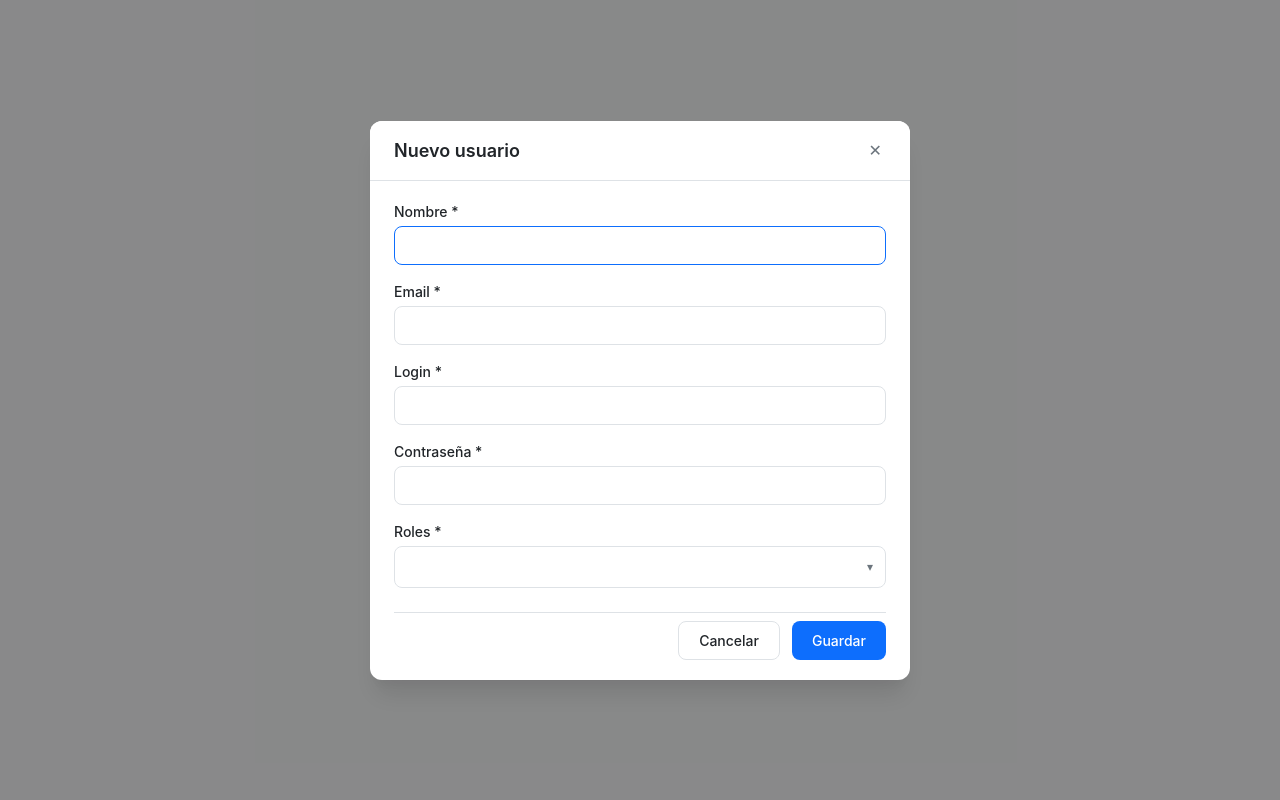
Test case: RbacUserModal › shows server error 409 LOGIN_TAKEN inline
Type "Test" into the field labelled "Nombre *" at [640, 245], box [394,226,886,264]
Type "test@test.com" into the field labelled "Email *" at [640, 325], box [394,306,886,344]
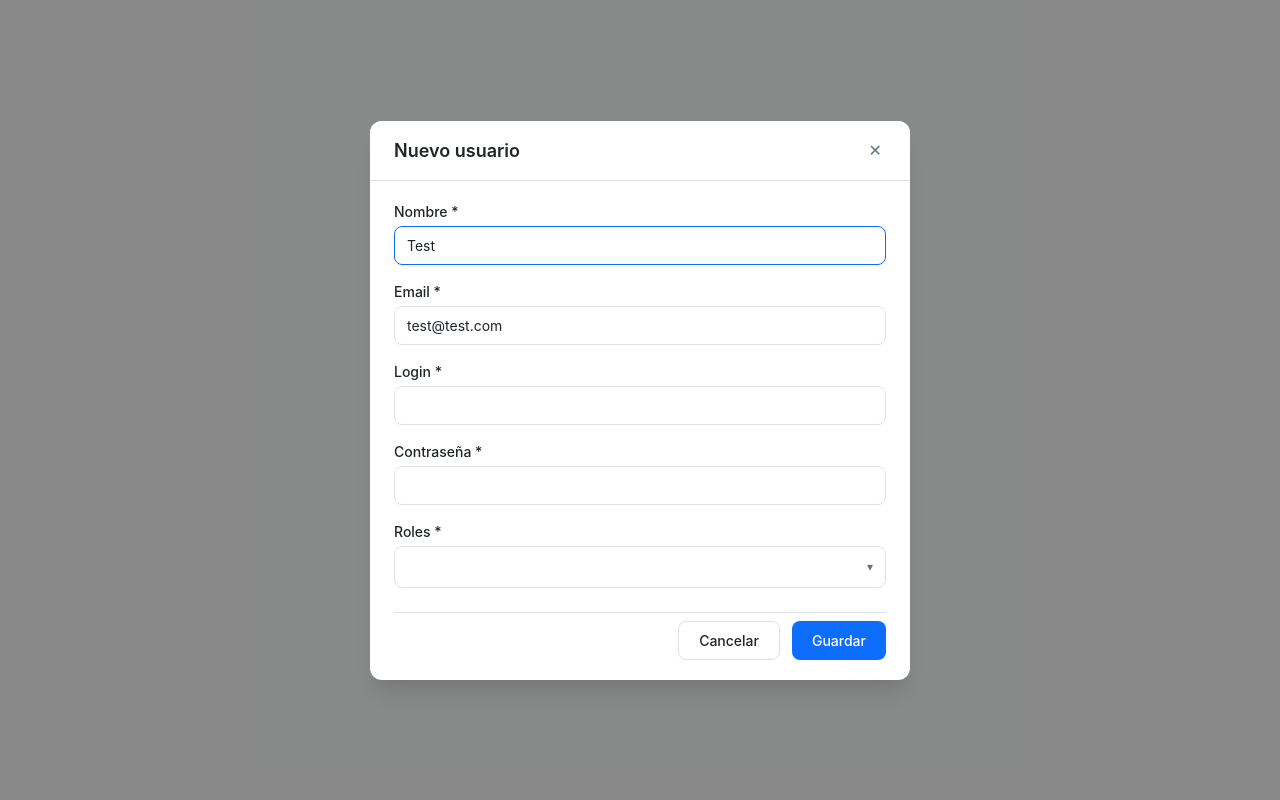
Type "taken" into the field labelled "Login *" at [640, 405], box [394,386,886,424]
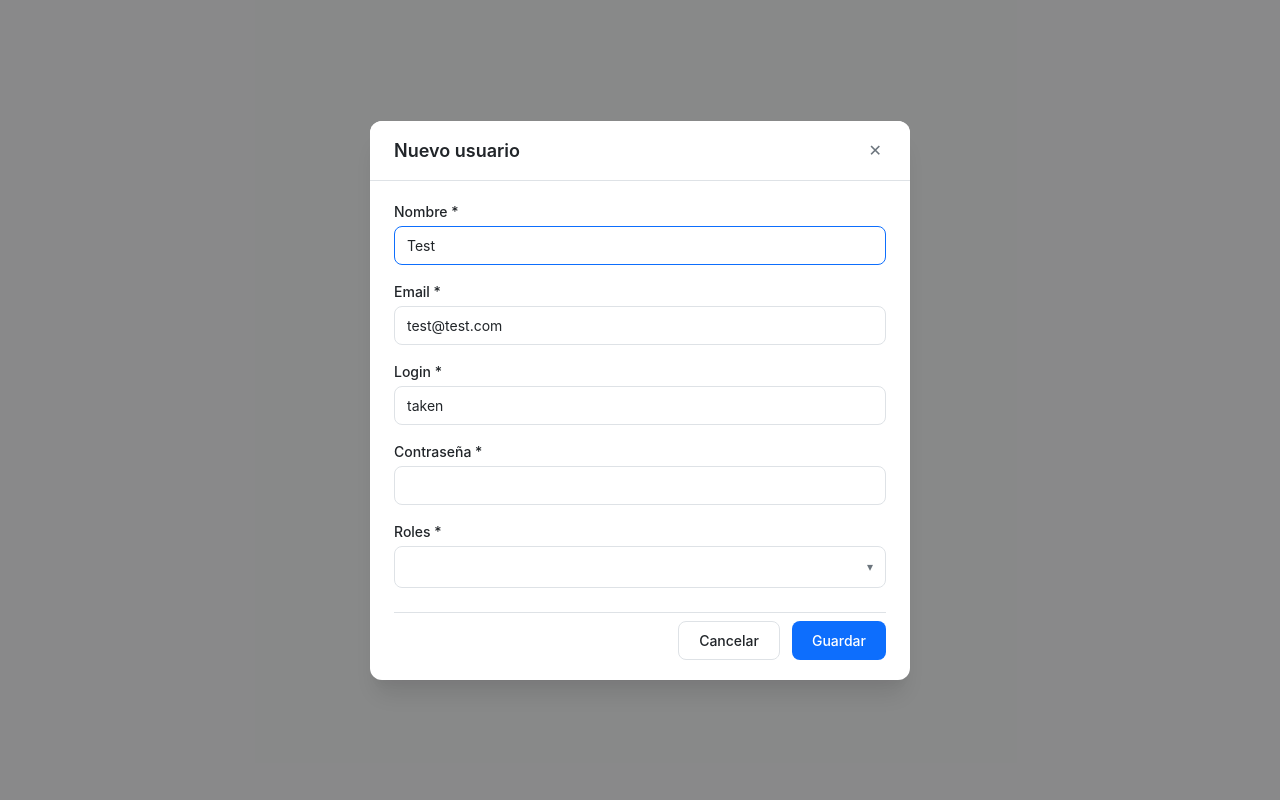
Type "password123" into the password field labelled "Contraseña *" at [640, 485], box [394,466,886,504]
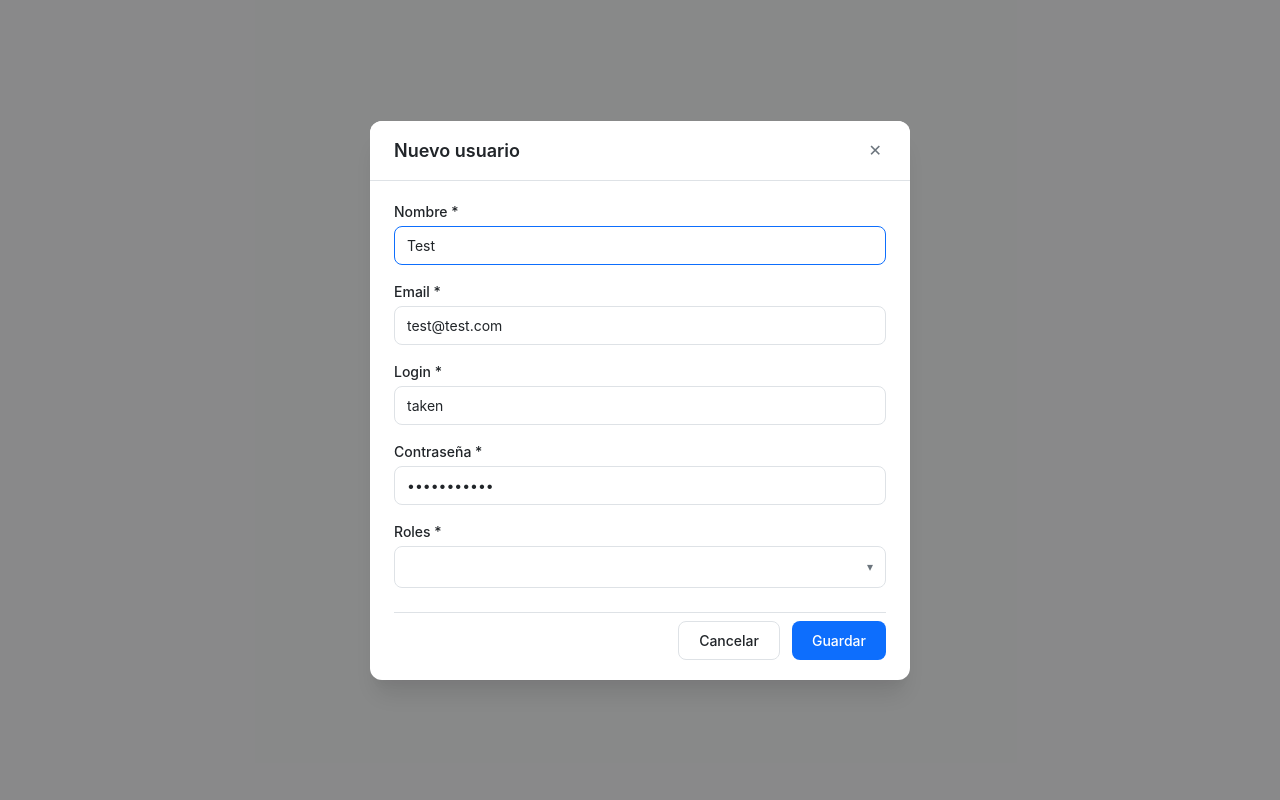
# Add a role
Click the button named "seleccionar roles" at [870, 566], box [863,558,877,576]
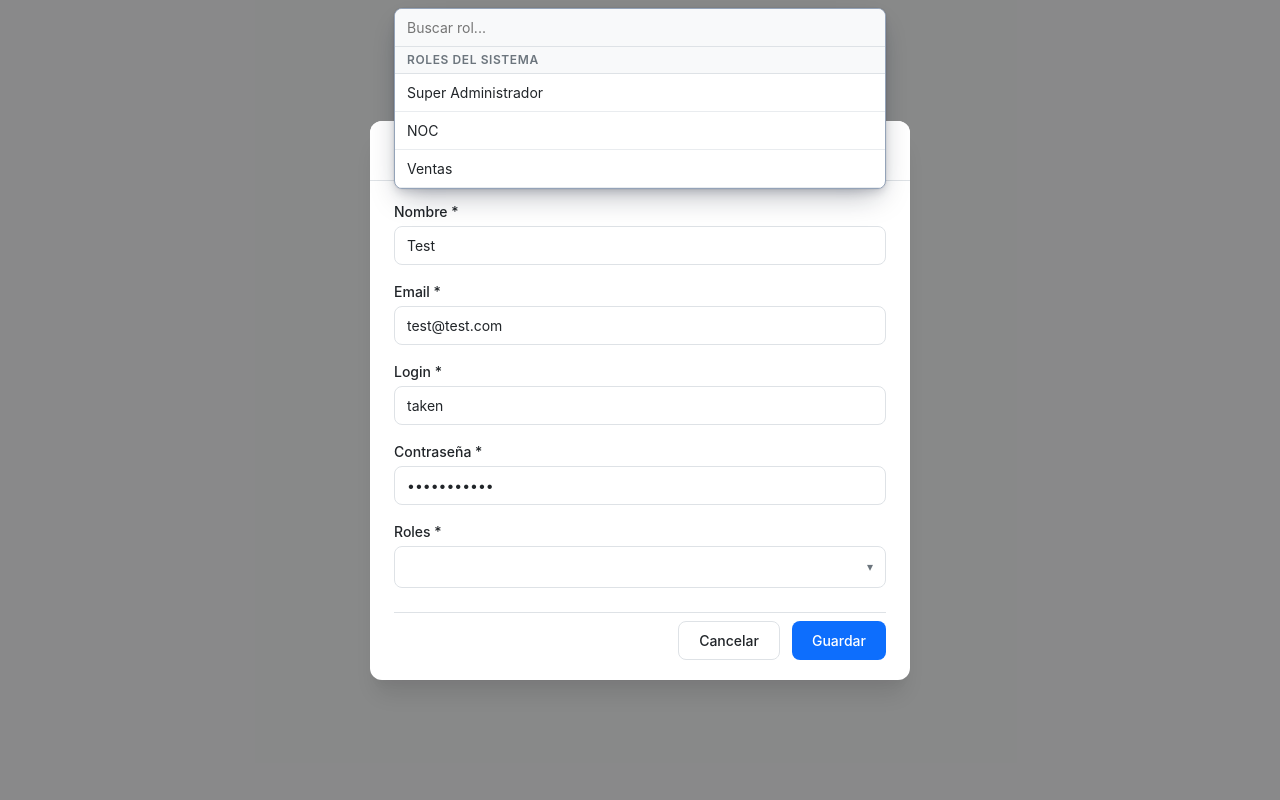
Click the option "NOC" at [423, 130], box [395,112,885,150]
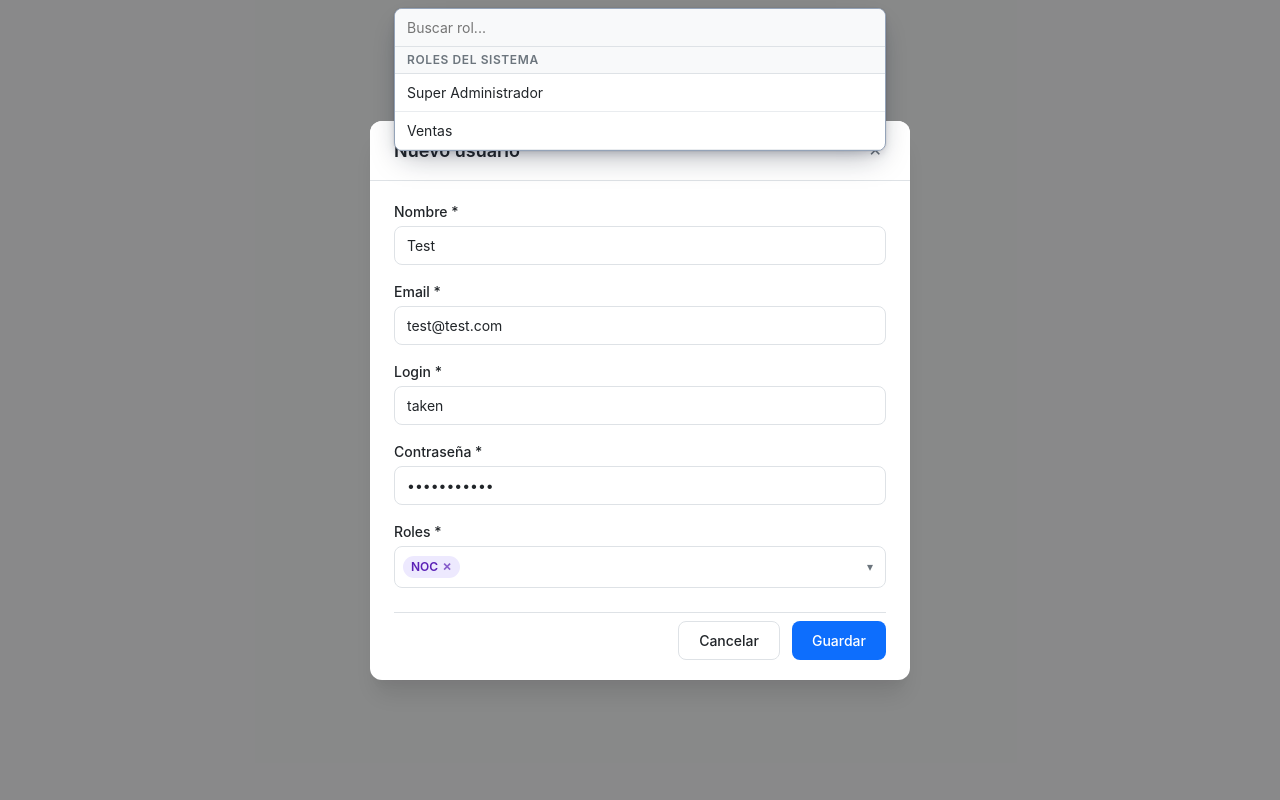
Click the button "Guardar" at [839, 640], box [792,620,886,660]
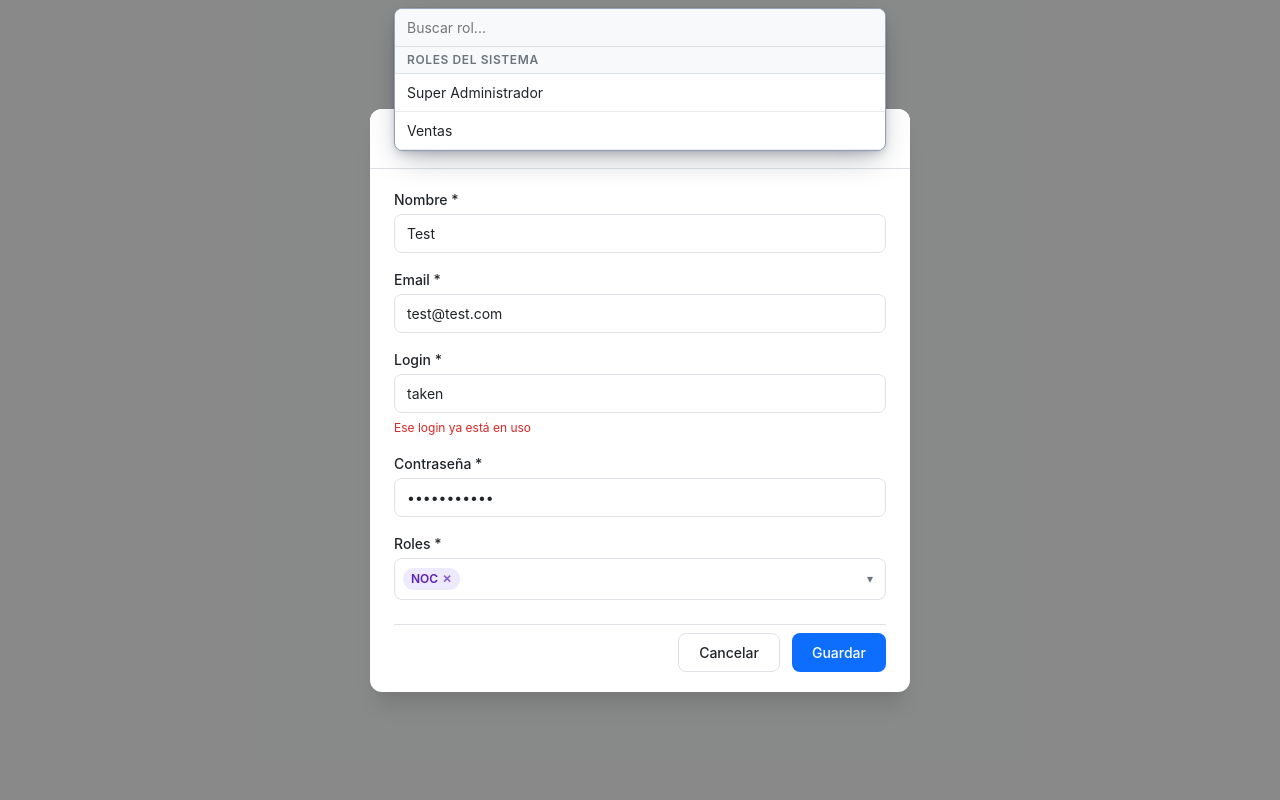
Now the text "Ese login ya está en uso" is shown, box [394,420,531,434]
